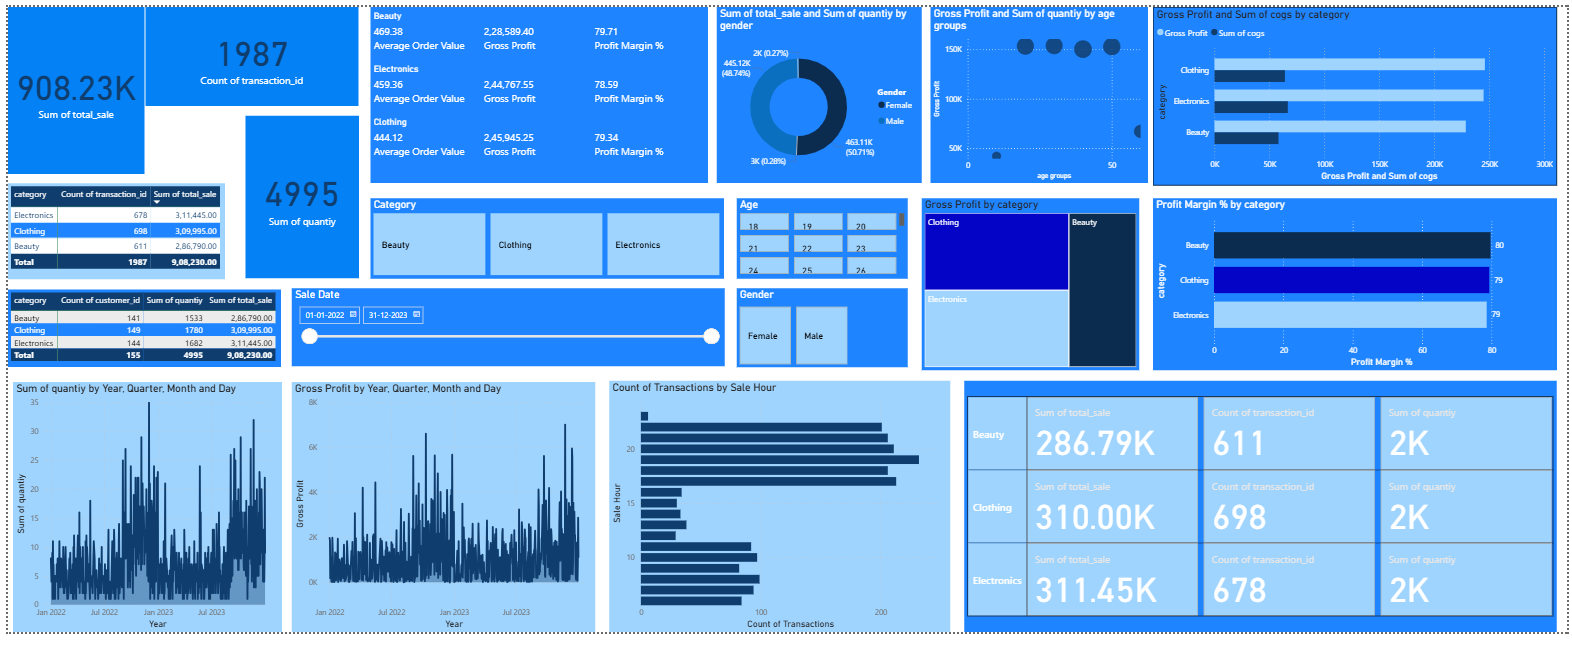

The page's visual inventory and layout, read from the dashboard file:
{"tool":"powerbi","page":{"name":"Page 1","canvas":[2496,1000],"ordinal":0},"visuals":[{"type":"cardVisual","fields":{"Rows":["public retail_sales.category"],"Data":["Sum(public retail_sales.total_sale)","CountNonNull(public retail_sales.transaction_id)","Sum(public retail_sales.quantiy)"]},"box":[1529.9,598.2,947.9,402.6],"z":0},{"type":"multiRowCard","fields":{"Values":["public retail_sales.Average Order Value","public retail_sales.Gross Profit","public retail_sales.Profit Margin %","public retail_sales.category"]},"box":[580,0,540,281.7],"z":1000},{"type":"card","fields":{"Values":["Sum(public retail_sales.total_sale)"]},"box":[0,0,218.6,266.9],"z":2000},{"type":"card","fields":{"Values":["Sum(public retail_sales.quantiy)"]},"box":[379.6,174.9,181.8,260],"z":3000},{"type":"card","fields":{"Values":["CountNonNull(public retail_sales.transaction_id)"]},"box":[220.9,0,340.5,158.7],"z":4000},{"type":"areaChart","fields":{"Y":["Sum(public retail_sales.quantiy)"],"Category":["public retail_sales.sale_date.Variation.Date Hierarchy.Year","public retail_sales.sale_date.Variation.Date Hierarchy.Quarter","public retail_sales.sale_date.Variation.Date Hierarchy.Month","public retail_sales.sale_date.Variation.Date Hierarchy.Day"]},"box":[7.6,599.2,430.5,400.3],"z":5000},{"type":"areaChart","fields":{"Y":["public retail_sales.Gross Profit"],"Category":["public retail_sales.sale_date.Variation.Date Hierarchy.Year","public retail_sales.sale_date.Variation.Date Hierarchy.Quarter","public retail_sales.sale_date.Variation.Date Hierarchy.Month","public retail_sales.sale_date.Variation.Date Hierarchy.Day"]},"box":[453.2,599.2,485.9,400.3],"z":6000},{"type":"scatterChart","fields":{"X":["public retail_sales.age groups"],"Y":["public retail_sales.Gross Profit"],"Size":["Sum(public retail_sales.quantiy)"]},"box":[1475,0,348.3,281.7],"z":7000},{"type":"donutChart","fields":{"Category":["public retail_sales.gender"],"Y":["Sum(public retail_sales.total_sale)","Sum(public retail_sales.quantiy)"]},"box":[1133.3,0,328.3,281.7],"z":8000},{"type":"barChart","fields":{"Category":["public retail_sales.Sale Hour"],"Y":["CountNonNull(public retail_sales.Transactions)"]},"box":[961.7,598.2,545.3,402.6],"z":9000},{"type":"pivotTable","fields":{"Values":["Count(public retail_sales.customer_id)","Sum(public retail_sales.quantiy)","Sum(public retail_sales.total_sale)"],"Rows":["public retail_sales.category"]},"box":[0,451.8,437,124],"z":10000},{"type":"pivotTable","fields":{"Values":["Count(public retail_sales.transaction_id)","Sum(public retail_sales.total_sale)"],"Rows":["public retail_sales.category"]},"box":[0,282,347.5,153.6],"z":11000},{"type":"clusteredBarChart","fields":{"Category":["public retail_sales.category"],"Y":["public retail_sales.Gross Profit","Sum(public retail_sales.cogs)"]},"box":[1831.3,0,646.5,285.3],"z":12000},{"type":"barChart","fields":{"Category":["public retail_sales.category"],"Y":["public retail_sales.Profit Margin %"]},"box":[1831.7,305,646.7,275],"z":13000},{"type":"slicer","title":"Sale Date","fields":{"Values":["public retail_sales.sale_date"]},"box":[453.2,450.9,692.5,124.2],"z":14000},{"type":"advancedSlicerVisual","title":"Gender","fields":{"Values":["public retail_sales.gender"]},"box":[1166.4,450.9,273.8,126.5],"z":15000},{"type":"advancedSlicerVisual","title":"Age","fields":{"Values":["public retail_sales.age"]},"box":[1166.4,306,273.8,128.8],"z":16000},{"type":"advancedSlicerVisual","title":"Category","fields":{"Values":["public retail_sales.category"]},"box":[579.8,306,566,128.8],"z":17000},{"type":"treemap","fields":{"Group":["public retail_sales.category"],"Values":["public retail_sales.Gross Profit"]},"box":[1461.7,305,348.3,275],"z":18000}]}

Visuals, with their boxes in screenshot pixels (x1, y1, x2, y2), scaled from the page's 2496x1000 canvas onto the 1572x647 screenshot:
cardVisual - public retail_sales.category x Sum(public retail_sales.total_sale): region(964, 387, 1561, 646)
multiRowCard - public retail_sales.Average Order Value x public retail_sales.Gross Profit: region(365, 0, 705, 182)
card - Sum(public retail_sales.total_sale): region(0, 0, 138, 173)
card - Sum(public retail_sales.quantiy): region(239, 113, 354, 281)
card - CountNonNull(public retail_sales.transaction_id): region(139, 0, 354, 103)
areaChart - Sum(public retail_sales.quantiy) x public retail_sales.sale_date.Variation.Date Hierarchy.Year: region(5, 388, 276, 646)
areaChart - public retail_sales.Gross Profit x public retail_sales.sale_date.Variation.Date Hierarchy.Year: region(285, 388, 591, 646)
scatterChart - public retail_sales.age groups x public retail_sales.Gross Profit: region(929, 0, 1148, 182)
donutChart - public retail_sales.gender x Sum(public retail_sales.total_sale): region(714, 0, 921, 182)
barChart - public retail_sales.Sale Hour x CountNonNull(public retail_sales.Transactions): region(606, 387, 949, 646)
pivotTable - Count(public retail_sales.customer_id) x Sum(public retail_sales.quantiy): region(0, 292, 275, 373)
pivotTable - Count(public retail_sales.transaction_id) x Sum(public retail_sales.total_sale): region(0, 182, 219, 282)
clusteredBarChart - public retail_sales.category x public retail_sales.Gross Profit: region(1153, 0, 1561, 185)
barChart - public retail_sales.category x public retail_sales.Profit Margin %: region(1154, 197, 1561, 375)
"Sale Date" slicer: region(285, 292, 722, 372)
"Gender" advancedSlicerVisual: region(735, 292, 907, 374)
"Age" advancedSlicerVisual: region(735, 198, 907, 281)
"Category" advancedSlicerVisual: region(365, 198, 722, 281)
treemap - public retail_sales.category x public retail_sales.Gross Profit: region(921, 197, 1140, 375)
